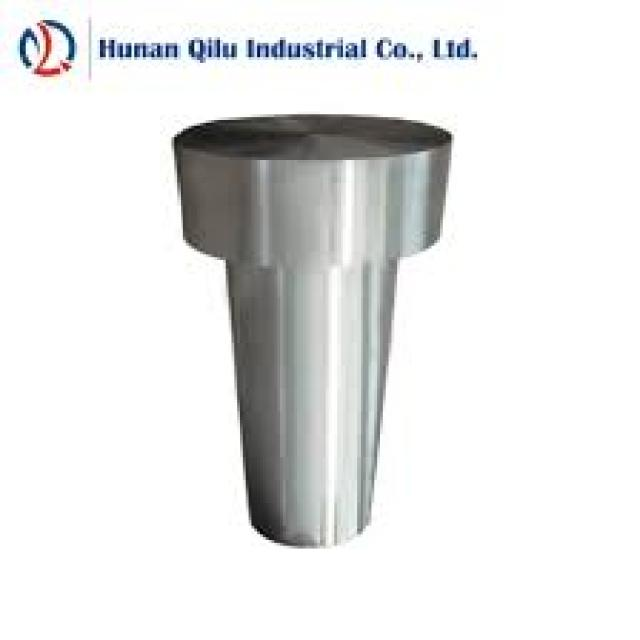Turning: (100, 88, 498, 590)
